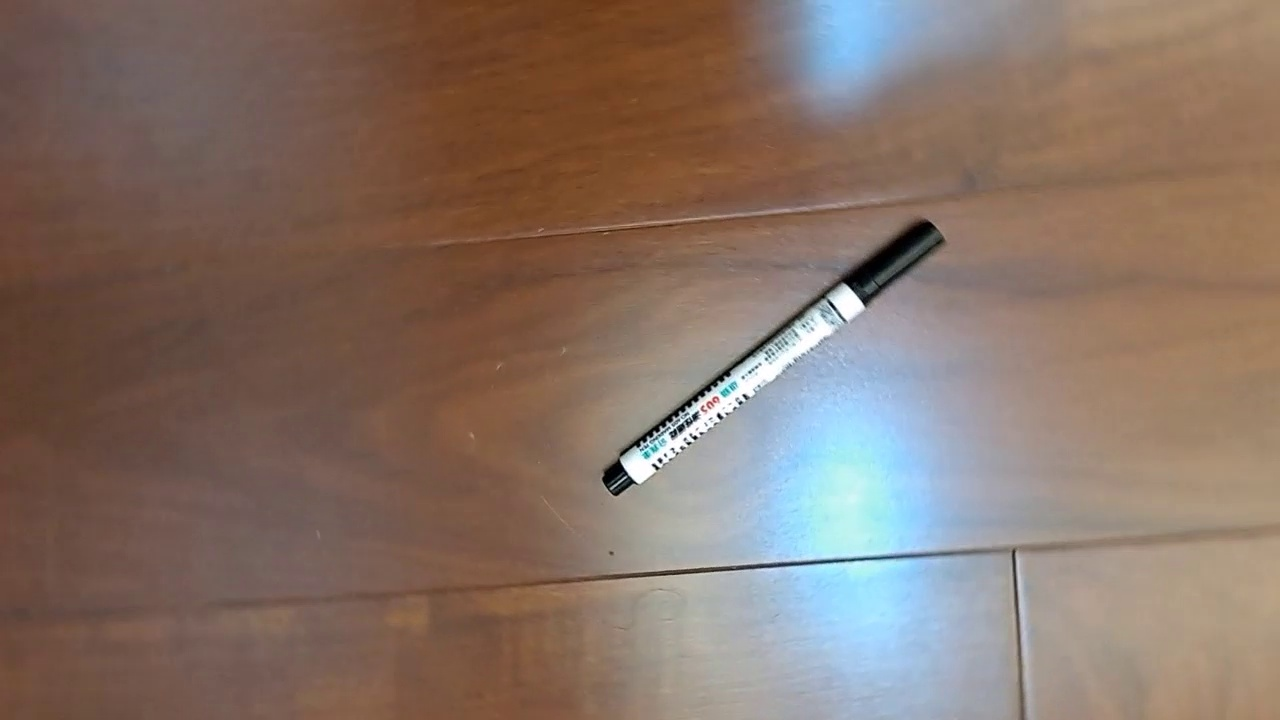pen: (601, 218, 948, 498)
